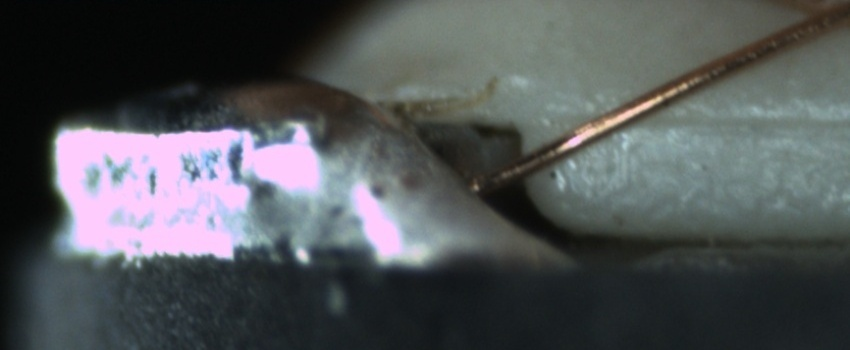CL: (778, 2, 846, 33)
DL: (607, 83, 847, 157)
